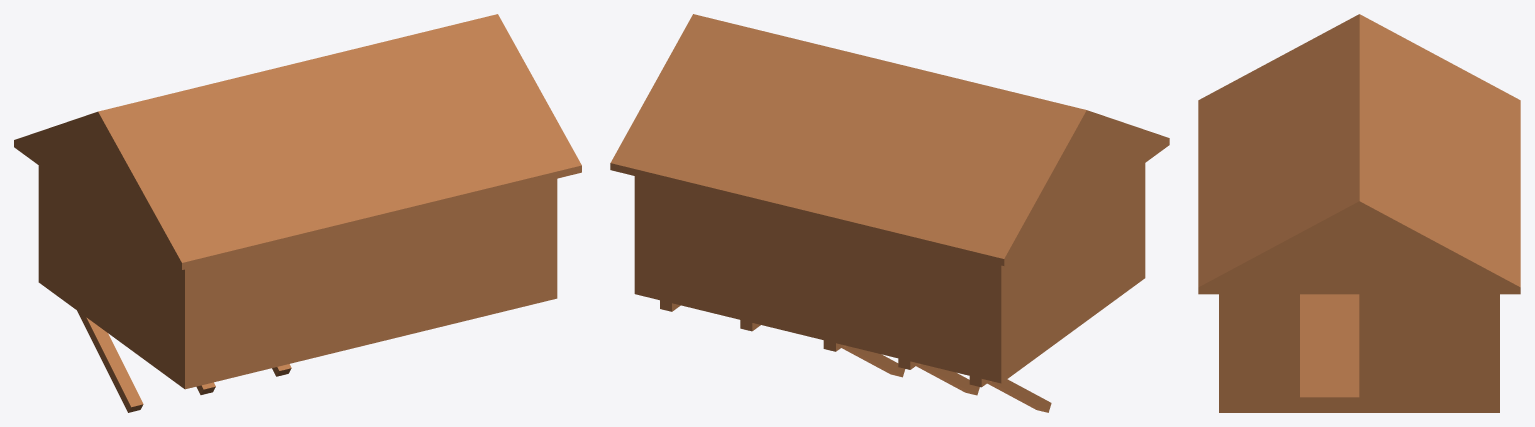
File: StartingHut.FBX
3 views of the same model, side by side, from view 1: azimuth 30°, elevation 25°; view 2: azimuth 150°, elevation 25°; view 3: azimuth 270°, elevation 25° (orthographic). The views are drawn at different scales.
Visible parts, largest first — view 1: StartingHut; view 2: StartingHut; view 3: StartingHut.
Boxes of the visible parts, x1,y1,x2,y2 form: StartingHut: (14,14,581,412); StartingHut: (610,14,1169,412); StartingHut: (1198,14,1520,412).
Size of the model in its own units: 11.53 by 8.62 by 8.39.
